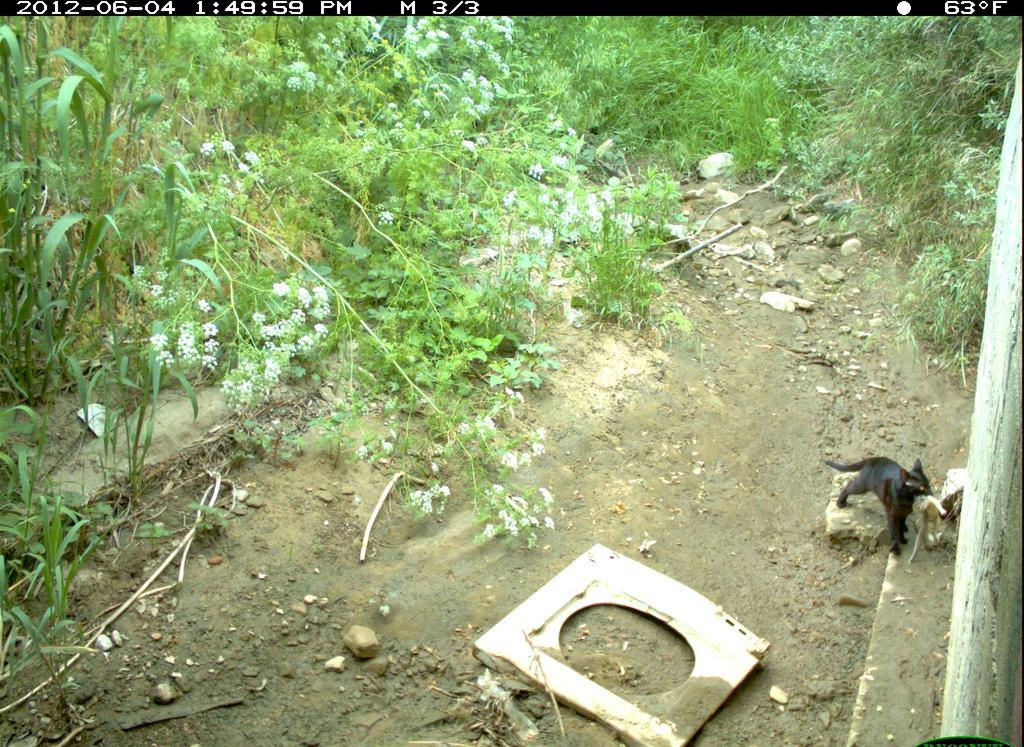cat: (822, 454, 931, 562)
